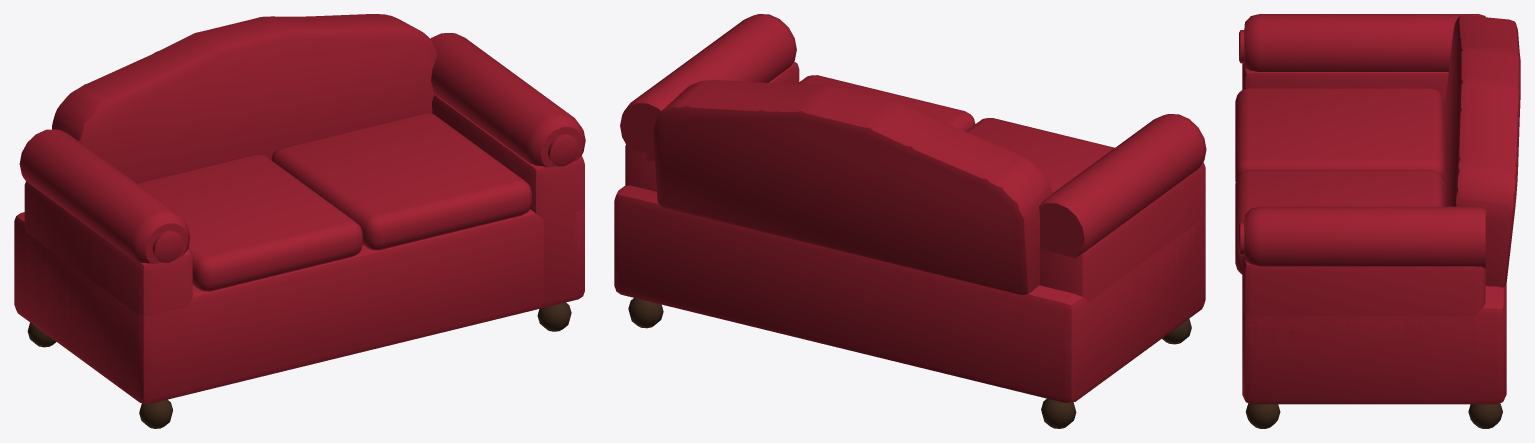
Rendered from loveseat_red.glb.
3 renders of one model, left to right at view 1: azimuth 30°, elevation 25°; view 2: azimuth 150°, elevation 25°; view 3: azimuth 270°, elevation 25°, orthographic. The views are drawn at different scales.
Visible parts, largest first — view 1: loveseat_red; view 2: loveseat_red; view 3: loveseat_red.
Boxes of the visible parts, x1,y1,x2,y2 form: loveseat_red: (14, 14, 585, 428); loveseat_red: (614, 14, 1206, 428); loveseat_red: (1235, 14, 1520, 428).
Bounding box in the file's own units: 1.5 × 0.8454 × 0.8207.
